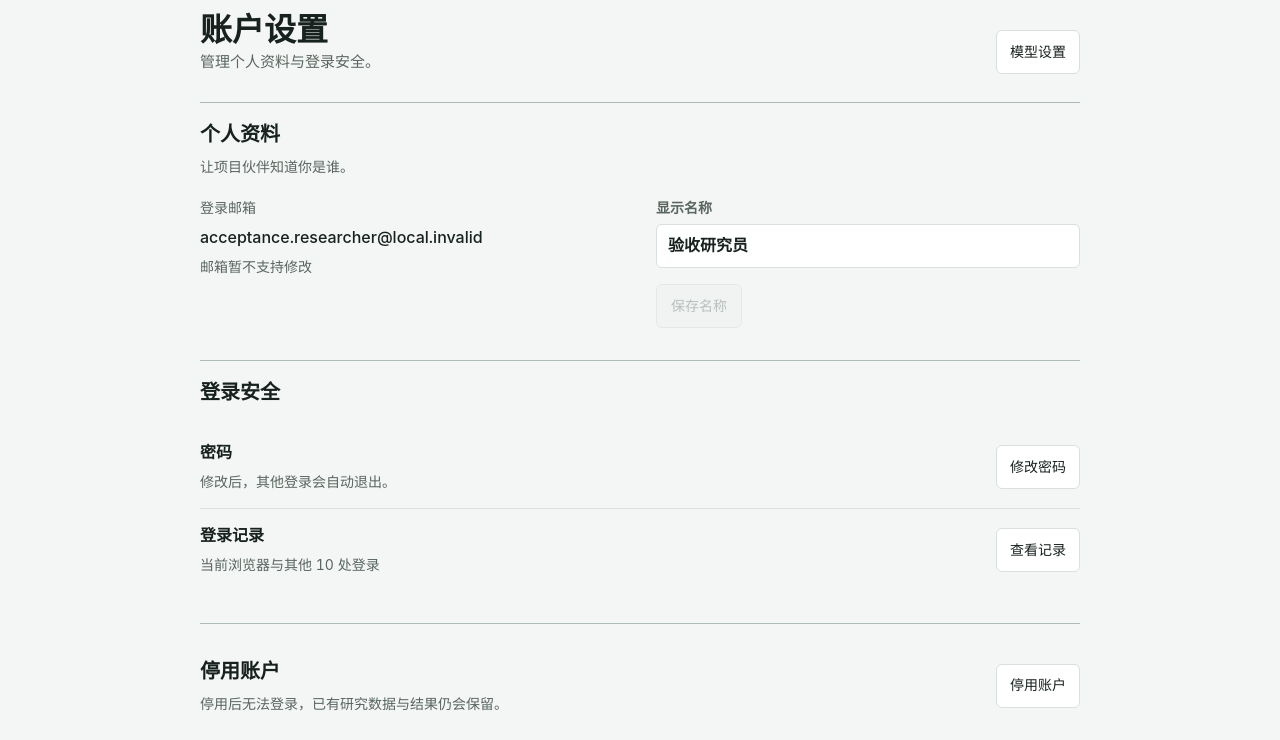
bounds a large session list until the user explicitly expands it
Click the button "查看记录" at (1038, 550), box [996,528,1080,572]
(page scrolled)
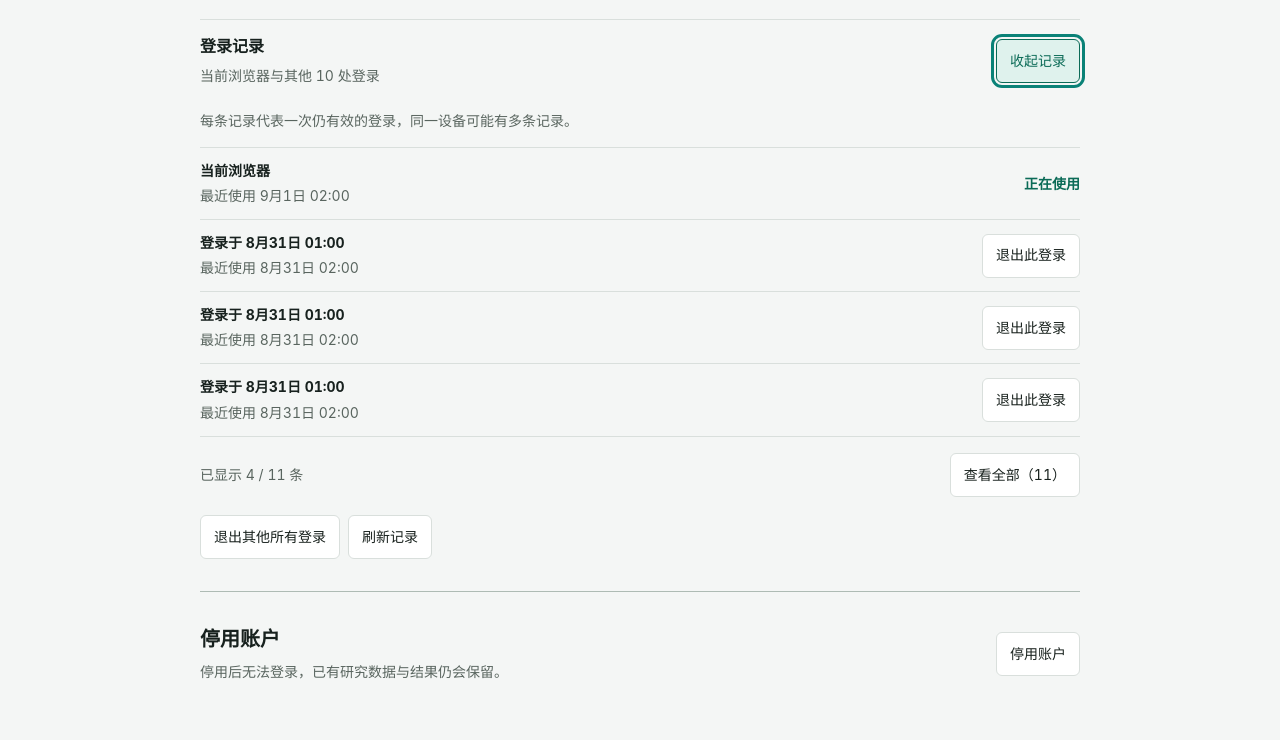
Check: the button "查看全部（11）" is shown
Check: the number of buttons "退出此登录" is 3, box [982,234,1080,278]; [982,306,1080,350]; [982,378,1080,422]
Click the button "查看全部（11）" at (1015, 475), box [950,453,1080,497]
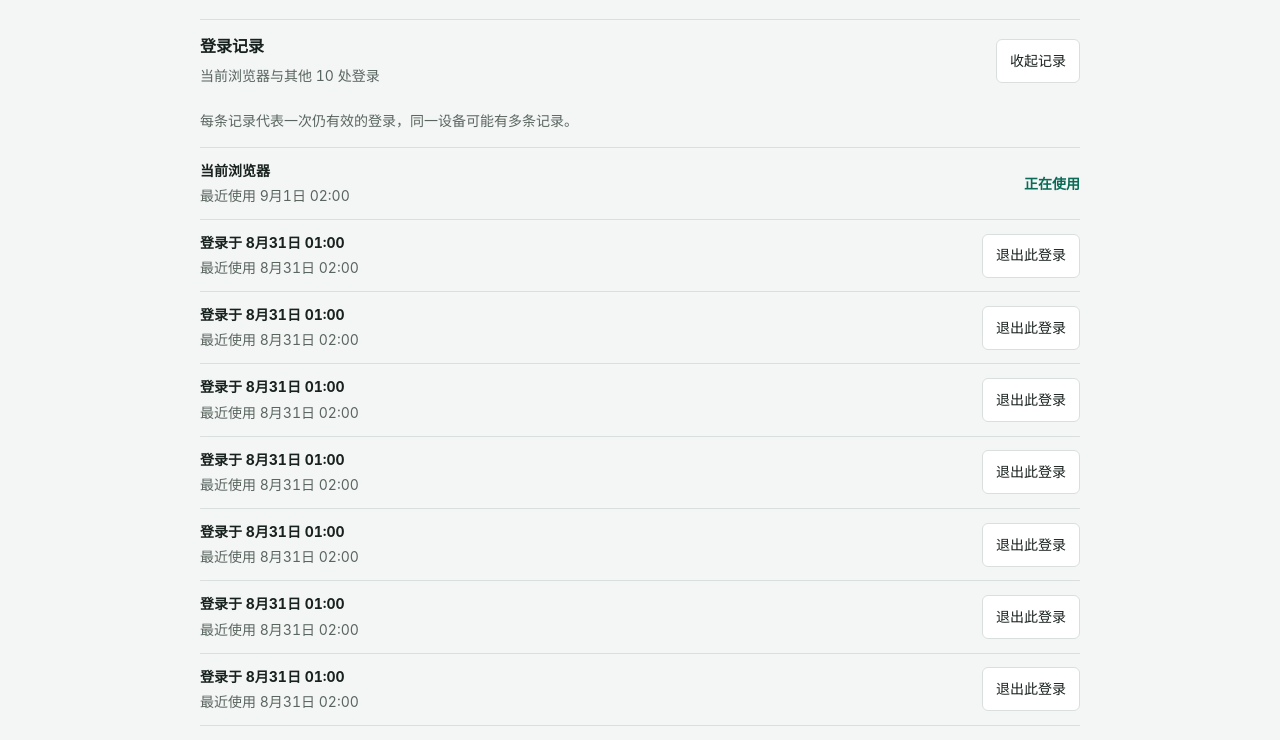
Check: the number of buttons "退出此登录" is 10
